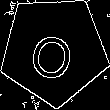O_N: (28, 20, 80, 80)
